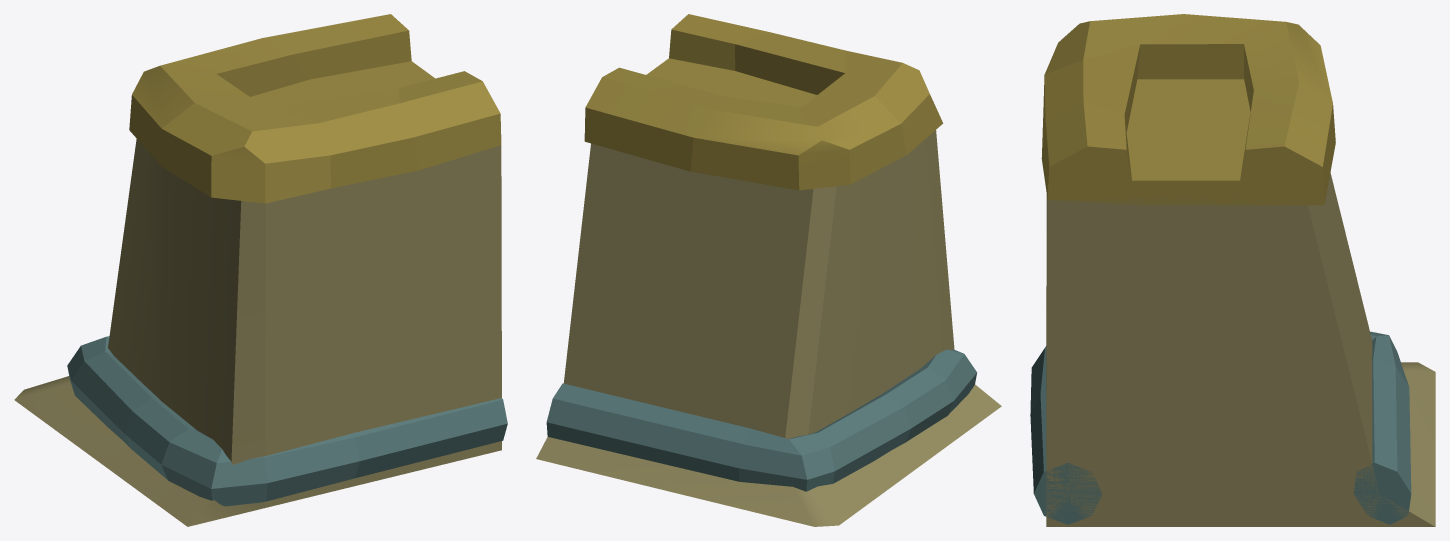
File: Int_18_Wall_Hor_End_Right.fbx
3 renders of one model, left to right at view 1: azimuth 30°, elevation 25°; view 2: azimuth 150°, elevation 25°; view 3: azimuth 270°, elevation 25°, orthographic. The views are drawn at different scales.
Parts seen in each view (by area): view 1: Int_18_Wall_Hor_End_Right; view 2: Int_18_Wall_Hor_End_Right; view 3: Int_18_Wall_Hor_End_Right.
Part boxes in pixels (x1,y1,x2,y2): Int_18_Wall_Hor_End_Right: (14, 14, 507, 526); Int_18_Wall_Hor_End_Right: (536, 14, 1001, 526); Int_18_Wall_Hor_End_Right: (1030, 14, 1435, 526).
Bounding box in the file's own units: 1 × 1.09 × 1.04.
